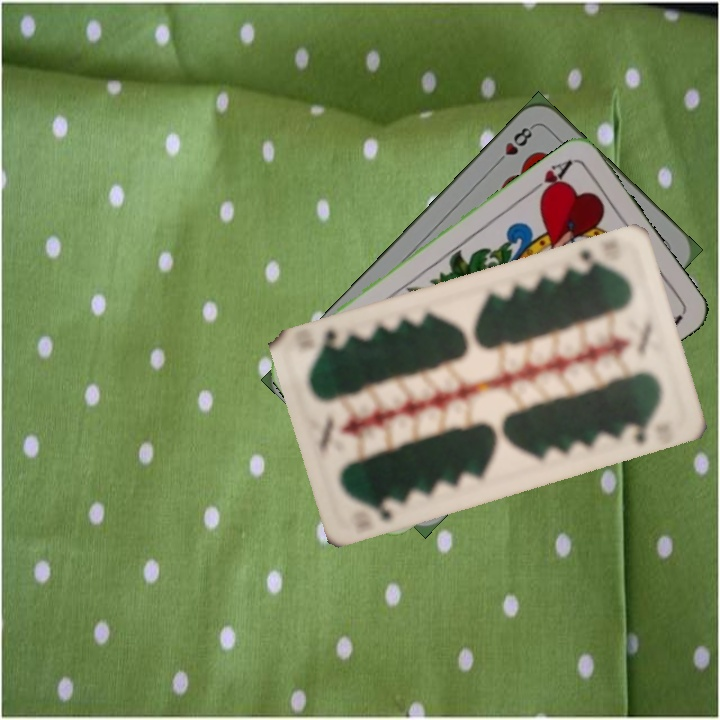G10: (361, 495, 403, 525), (571, 245, 607, 274)
H8: (491, 121, 537, 168)
HA: (525, 155, 575, 201)
